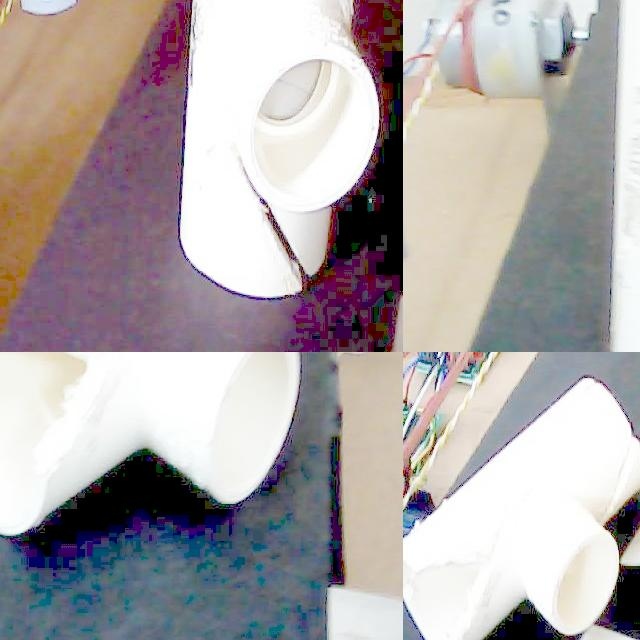Defective: (0, 352, 126, 519), (225, 117, 323, 301), (410, 559, 515, 640), (598, 392, 635, 520), (187, 0, 203, 168)
T Joint: (167, 0, 393, 309), (403, 380, 640, 640)
